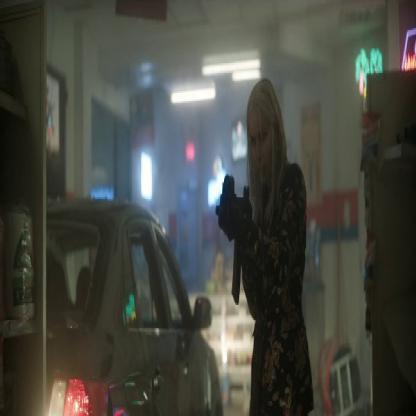Guns: (214, 169, 252, 305)
